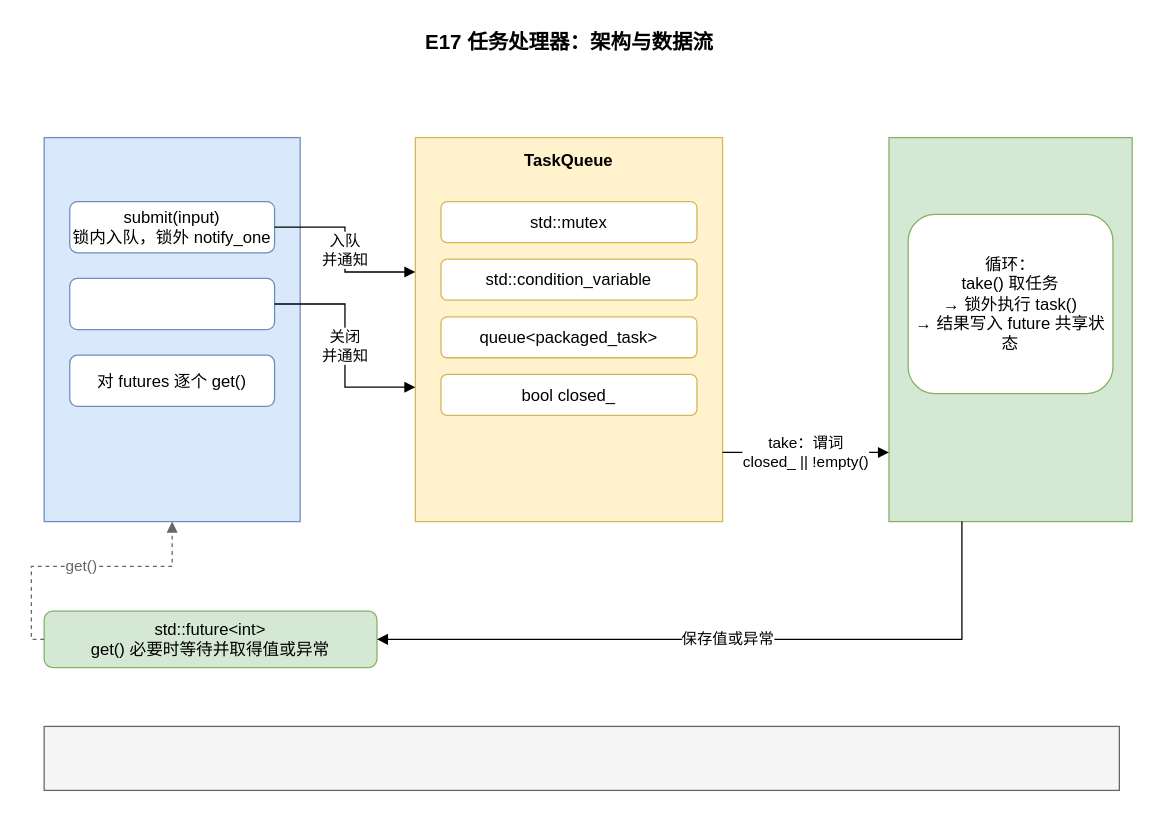
The diagram is 1155 pixels wide and 813 high, and some of its shapes have lost their labels. The shapes that lost their labels are listed below. From the top down, each one's box as (x1, y1, x2, y2) in pixels, then its label:
(68, 277, 275, 330): close() 锁内置位，锁外 notify_all
(43, 136, 300, 522): 主线程
(888, 136, 1132, 522): 工作线程 ×N
(43, 725, 1119, 790): 排空关闭：已接受任务全部做完；队列空且已关闭时等待者退出
